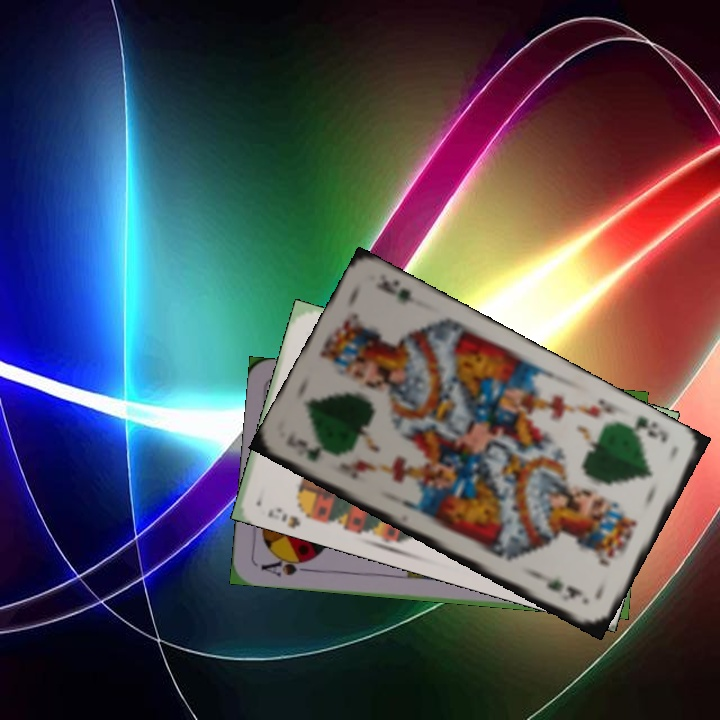GK: (620, 412, 671, 445), (291, 435, 324, 464)
S9: (263, 501, 318, 525)
SA: (257, 552, 316, 580)
